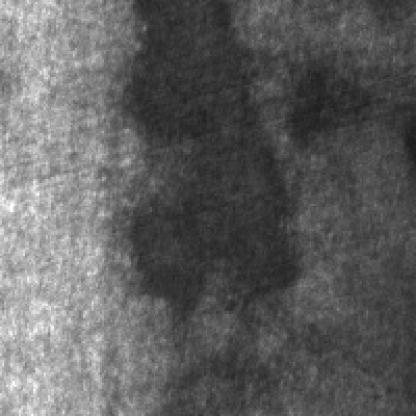patches: (120, 6, 300, 320), (285, 62, 383, 152)
